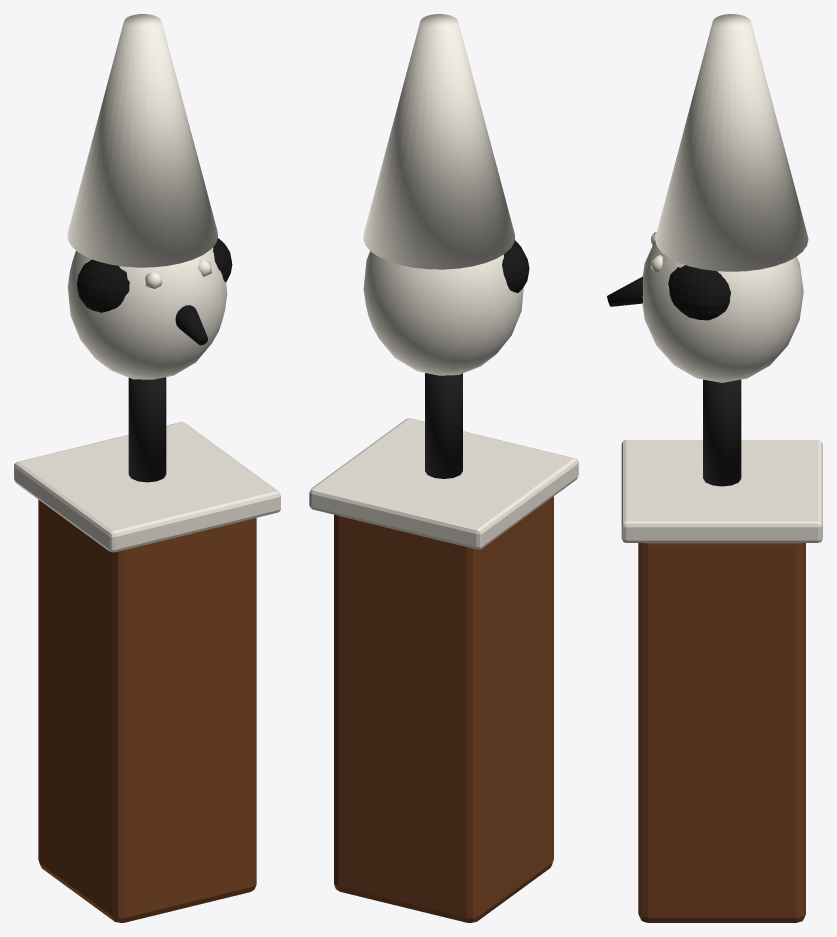
File: pulcinella.glb
The picture shows the model from 3 angles, left to right: view 1: azimuth 30°, elevation 25°; view 2: azimuth 150°, elevation 25°; view 3: azimuth 270°, elevation 25°; orthographic projection.
Visible parts, largest first — view 1: Cube, Cone.001, Cube.001, Icosphere, Cylinder, Sphere, Cone; view 2: Cube, Cone.001, Cube.001, Icosphere, Cylinder, Sphere; view 3: Cube, Cone.001, Cube.001, Icosphere, Cylinder, Sphere, Cone.
Boxes of the visible parts, x1,y1,x2,y2 form: Cube: (38,499,256,922); Cone.001: (67,14,217,267); Cube.001: (14,422,280,552); Icosphere: (67,247,227,379); Cylinder: (128,377,166,482); Sphere: (77,238,232,312); Cone: (175,305,207,345); Cube: (334,496,553,922); Cone.001: (363,14,514,269); Cube.001: (309,418,578,549); Icosphere: (363,251,523,375); Cylinder: (425,373,462,478); Sphere: (502,240,529,292); Cube: (638,543,805,922); Cone.001: (655,14,808,271); Cube.001: (621,440,822,542); Icosphere: (642,240,803,382); Cylinder: (703,379,741,486); Sphere: (668,265,730,320); Cone: (607,276,642,306).
Bounding box in the file's own units: 0.42 × 2 × 0.4501.
